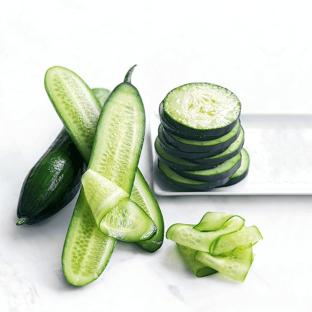Cucumber: (88, 68, 154, 241), (17, 129, 84, 225), (45, 67, 100, 163), (82, 170, 156, 241), (46, 84, 106, 163), (163, 83, 240, 135), (166, 216, 244, 252), (130, 170, 164, 252), (161, 121, 240, 152), (159, 103, 224, 140), (158, 125, 225, 159), (158, 160, 229, 190), (195, 247, 252, 282), (155, 138, 216, 170), (193, 128, 244, 165), (178, 153, 241, 181), (52, 85, 91, 124), (210, 226, 262, 255), (177, 244, 217, 276), (224, 149, 249, 186), (194, 212, 234, 231), (92, 89, 110, 106)
